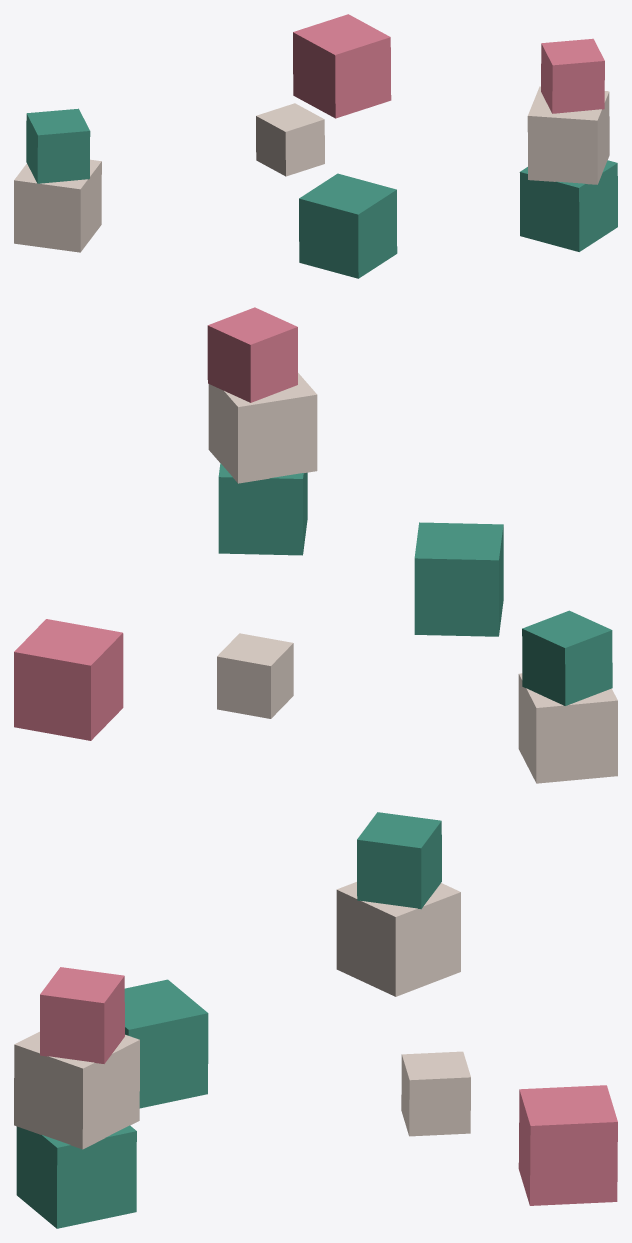
The model's file is Toy_Cubes.fbx.
3 renders of one model, top to bottom at view 1: azimuth 30°, elevation 25°; view 2: azimuth 150°, elevation 25°; view 3: azimuth 270°, elevation 25°, orthographic. The views are drawn at different scales.
Parts seen in each view (by area): view 1: Toy_Cubes; view 2: Toy_Cubes; view 3: Toy_Cubes.
Part boxes in pixels (<box>): Toy_Cubes: <box>14,14,617,278</box>; Toy_Cubes: <box>14,307,617,783</box>; Toy_Cubes: <box>14,812,617,1228</box>.
Bounding box in the file's own units: 23.91 × 21.13 × 8.72.
